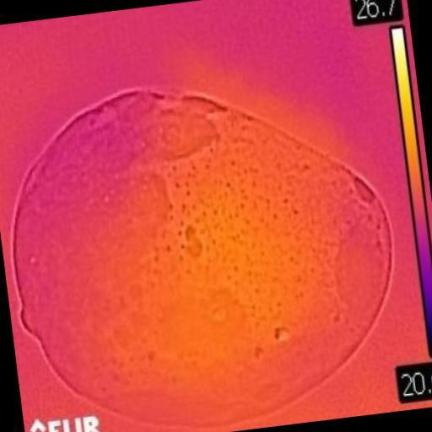mango: (12, 90, 392, 425)
